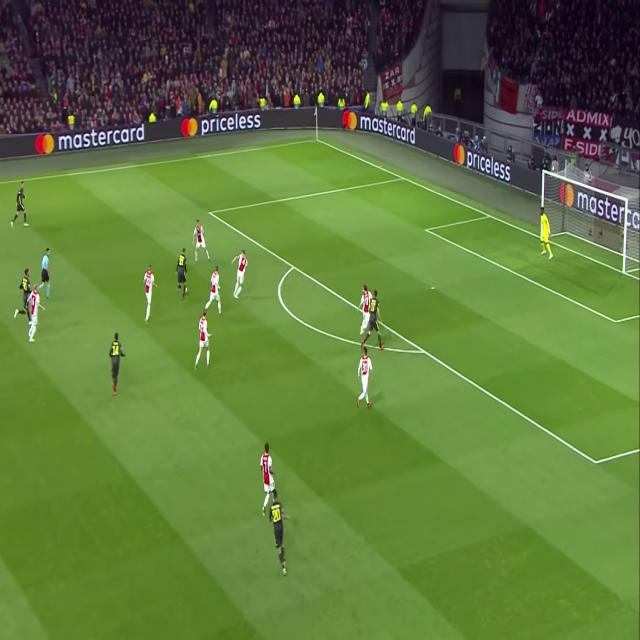Ball: (185, 287, 188, 294)
GoalKeeper: (539, 209, 554, 260)
TEAM 1: (259, 438, 275, 516), (196, 310, 212, 372), (26, 284, 43, 342), (358, 349, 373, 412), (142, 267, 156, 325), (232, 251, 248, 298), (206, 270, 222, 316), (193, 221, 211, 261), (359, 284, 370, 343), (175, 252, 187, 297)
TEAM 2: (270, 488, 287, 578), (109, 334, 128, 399), (14, 257, 30, 322), (369, 284, 384, 348), (12, 182, 28, 226)
